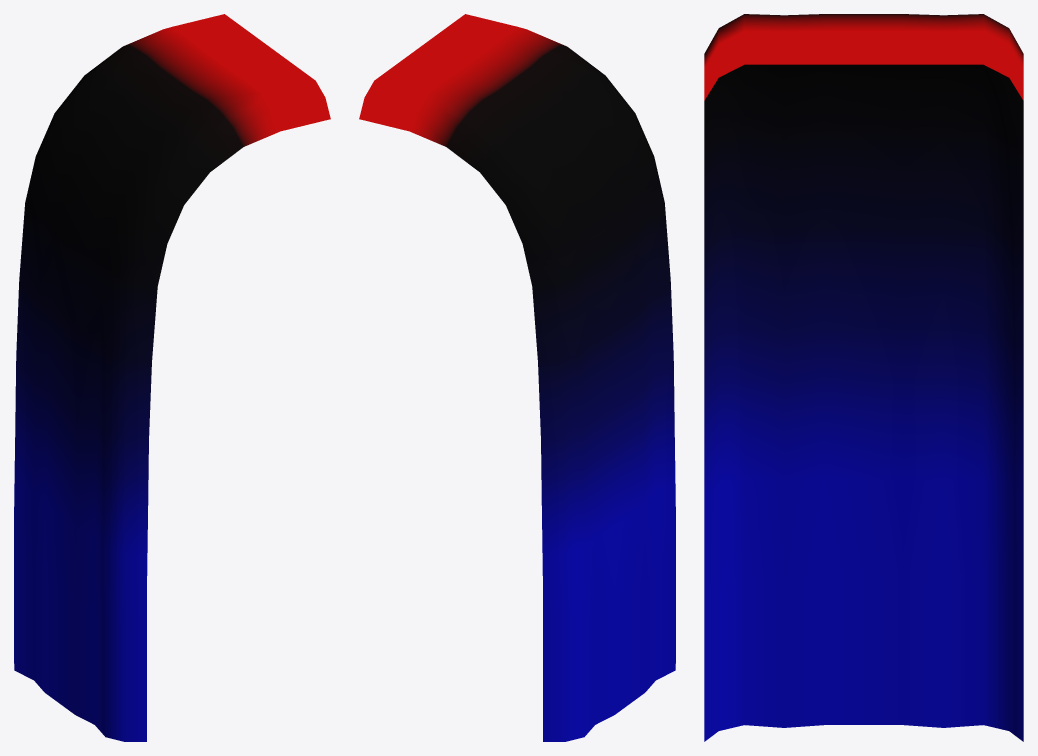
File: TSI_Waterfall_01A.fbx
3 views of the same model, side by side, from view 1: azimuth 30°, elevation 25°; view 2: azimuth 150°, elevation 25°; view 3: azimuth 270°, elevation 25° (orthographic). The views are drawn at different scales.
Parts seen in each view (by area): view 1: TSI_Waterfall_01A; view 2: TSI_Waterfall_01A; view 3: TSI_Waterfall_01A.
Part boxes in pixels (x1,y1,x2,y2): TSI_Waterfall_01A: (14, 14, 330, 741); TSI_Waterfall_01A: (359, 14, 675, 741); TSI_Waterfall_01A: (704, 14, 1023, 741).
Bounding box in the file's own units: 4 × 11 × 4.
